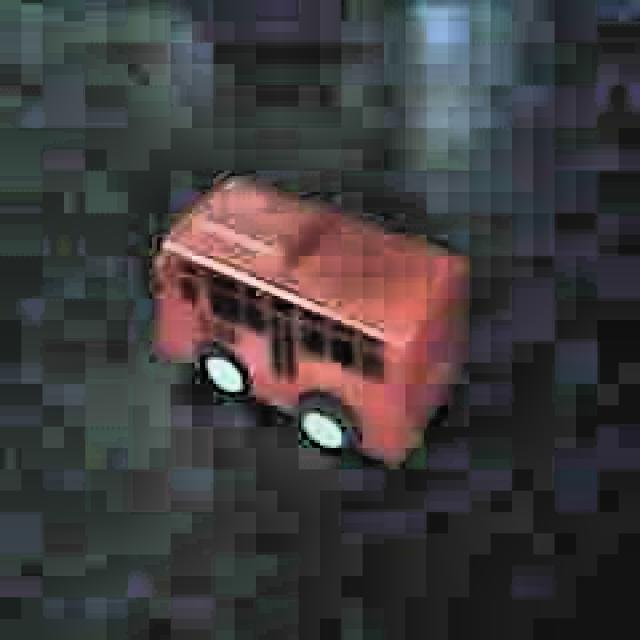bus: (149, 169, 473, 468)
